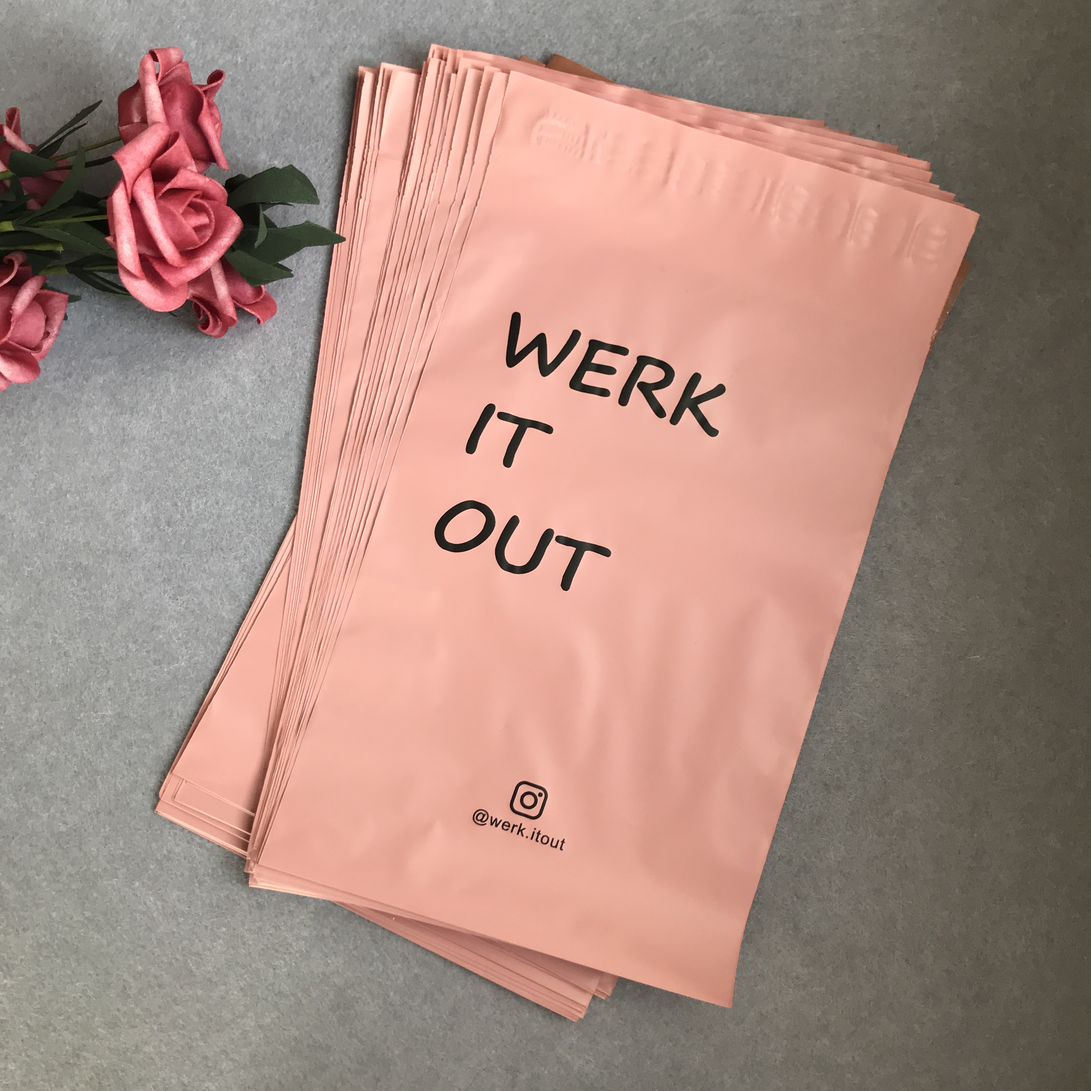Parcel: (259, 75, 971, 984)
